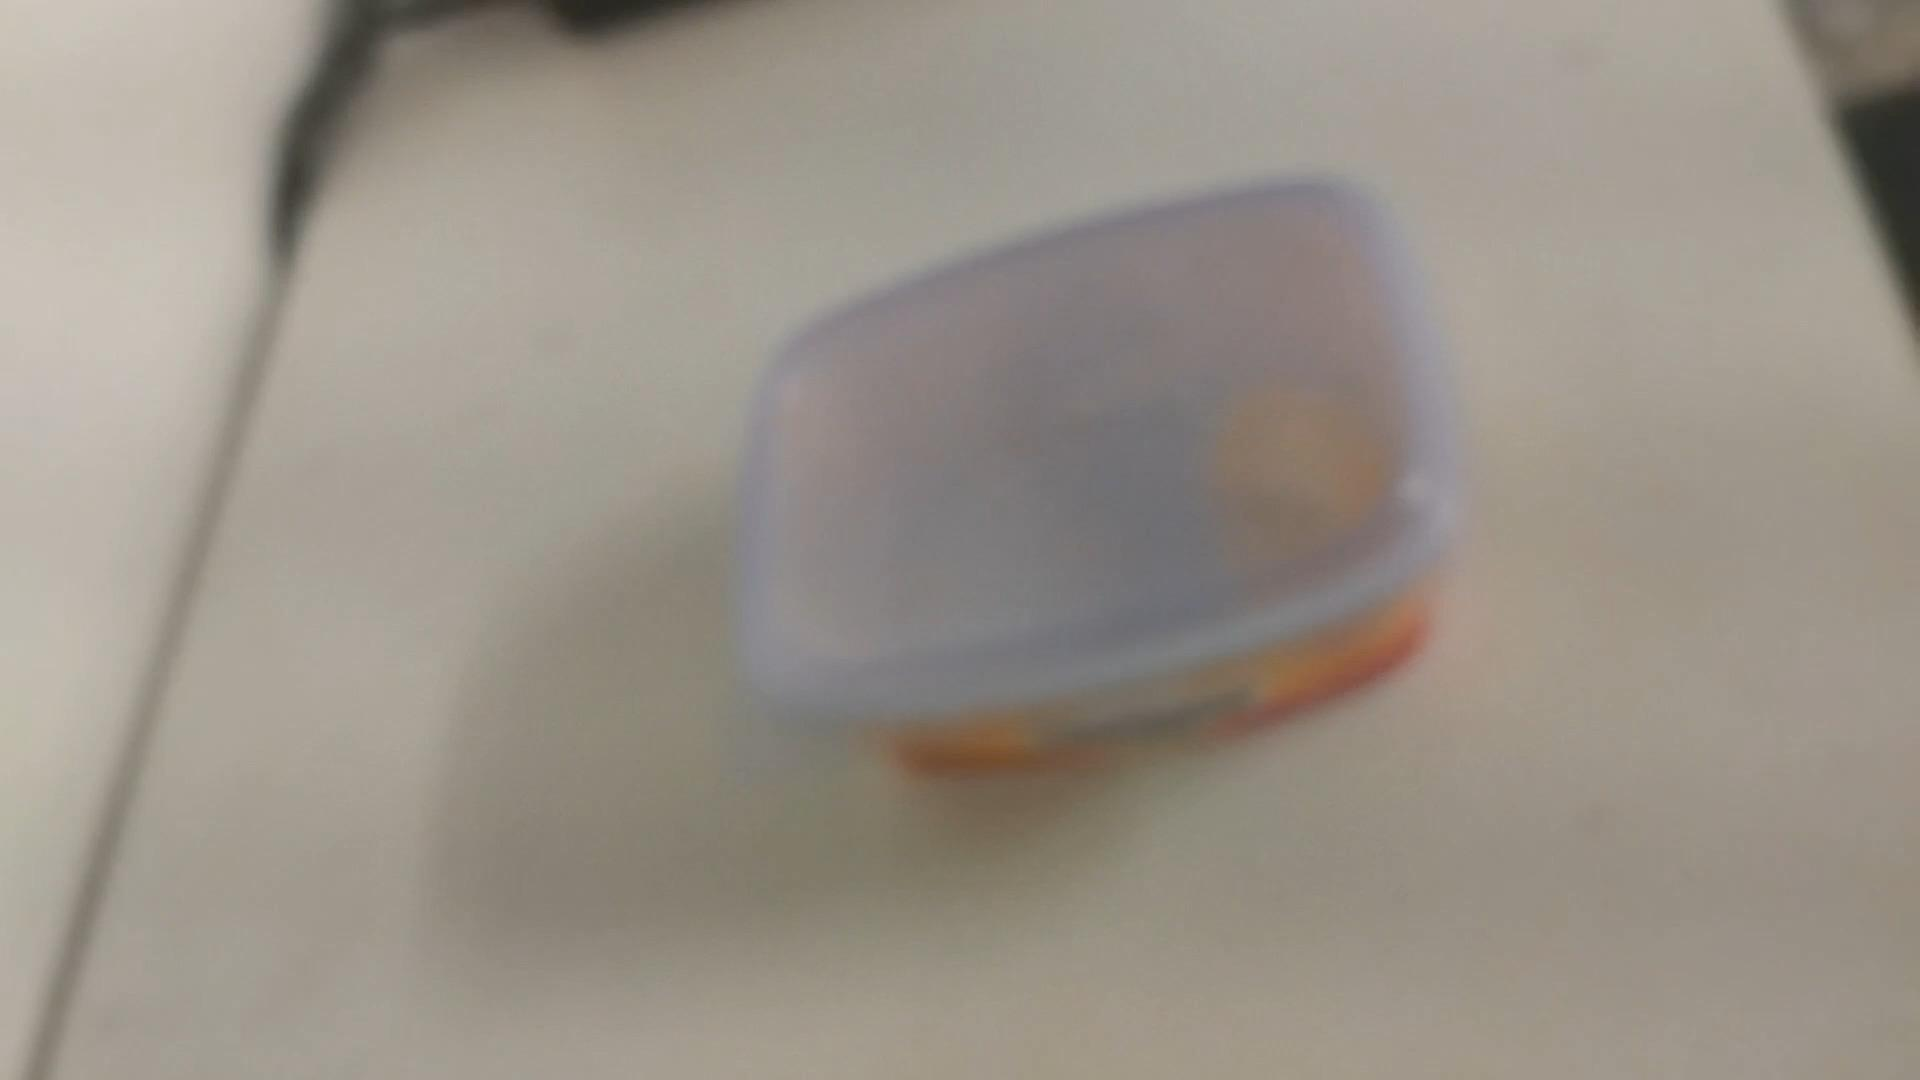butter: (728, 173, 1470, 787)
